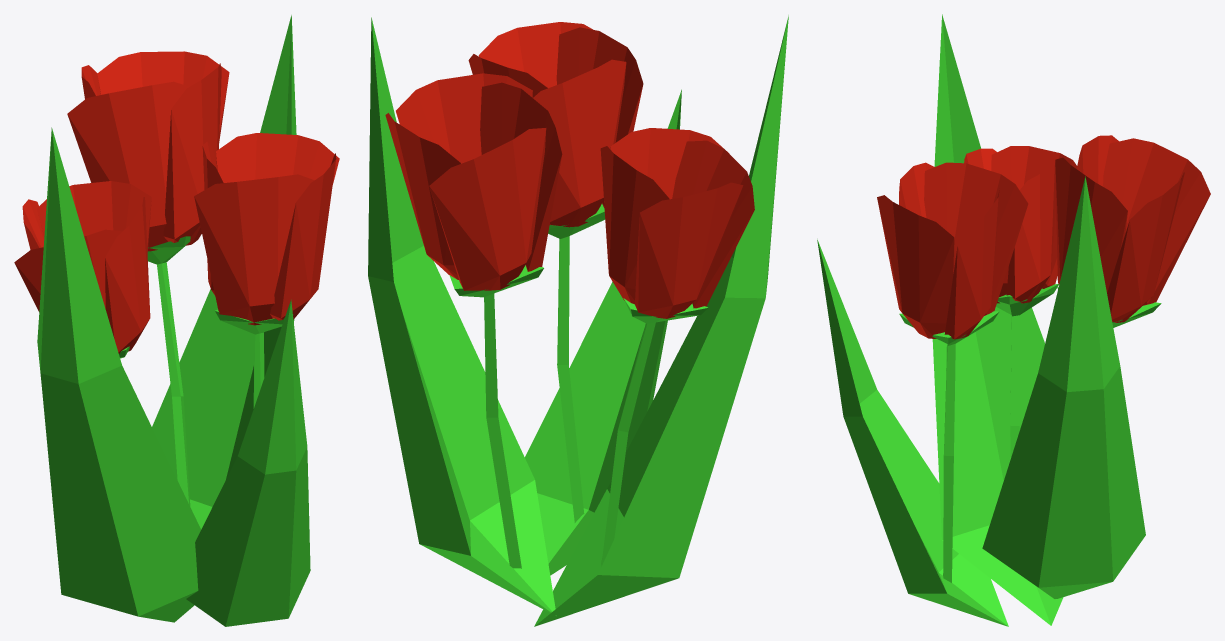
The model's file is Flower_Tulpid.fbx.
3 views of the same model, side by side, from view 1: azimuth 30°, elevation 25°; view 2: azimuth 150°, elevation 25°; view 3: azimuth 270°, elevation 25° (orthographic). The views are drawn at different scales.
Parts seen in each view (by area): view 1: Cube.000; view 2: Cube.000; view 3: Cube.000.
Boxes of the visible parts, x1,y1,x2,y2 form: Cube.000: (14,15,339,626); Cube.000: (368,15,788,626); Cube.000: (817,14,1210,626).
Bounding box in the file's own units: 42.2 × 73.32 × 49.28.
